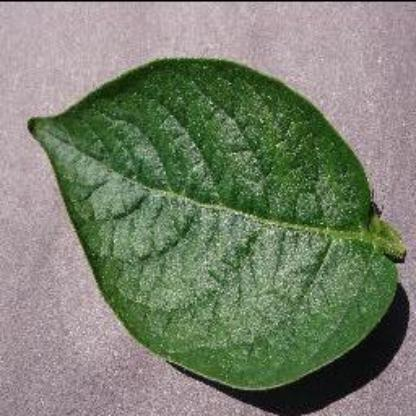Healthy-plant: (26, 56, 402, 392)
